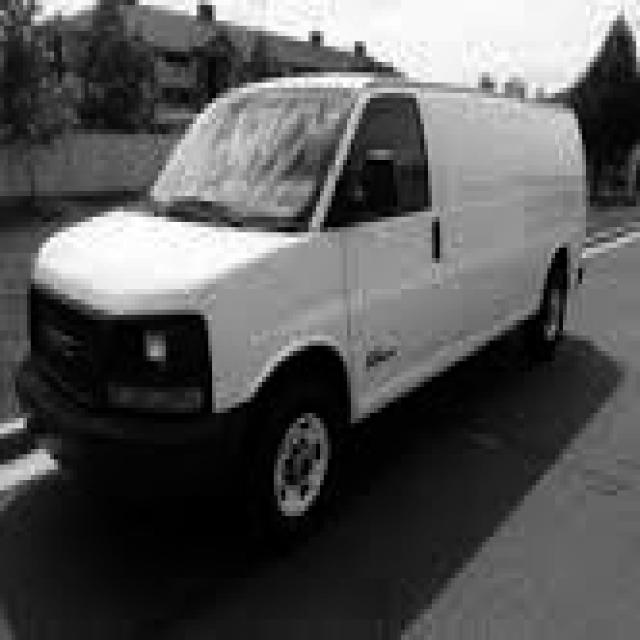car: (12, 67, 586, 547)
